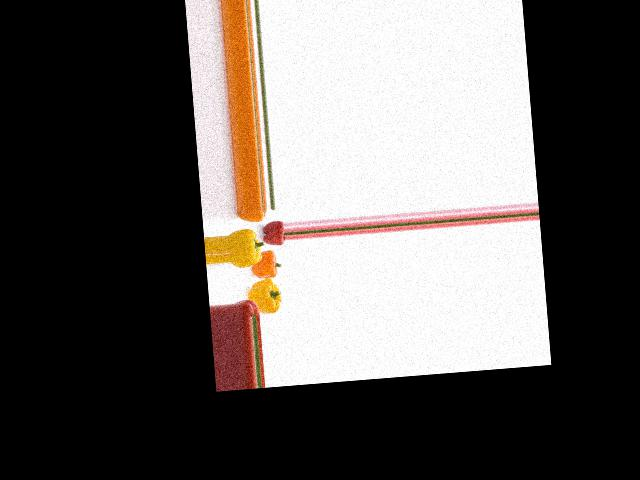bell_pepper: (237, 208, 269, 225)
